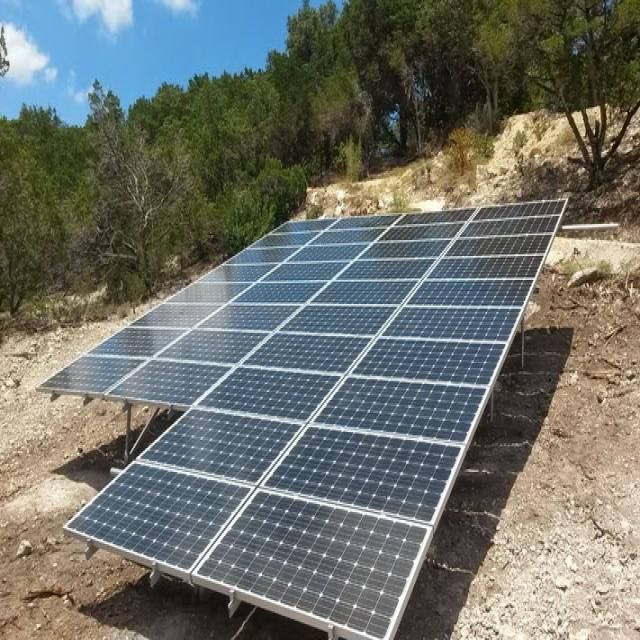clean-solar-panel: (40, 200, 566, 635)
